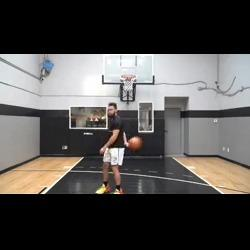BasketBall: (126, 134, 143, 151)
